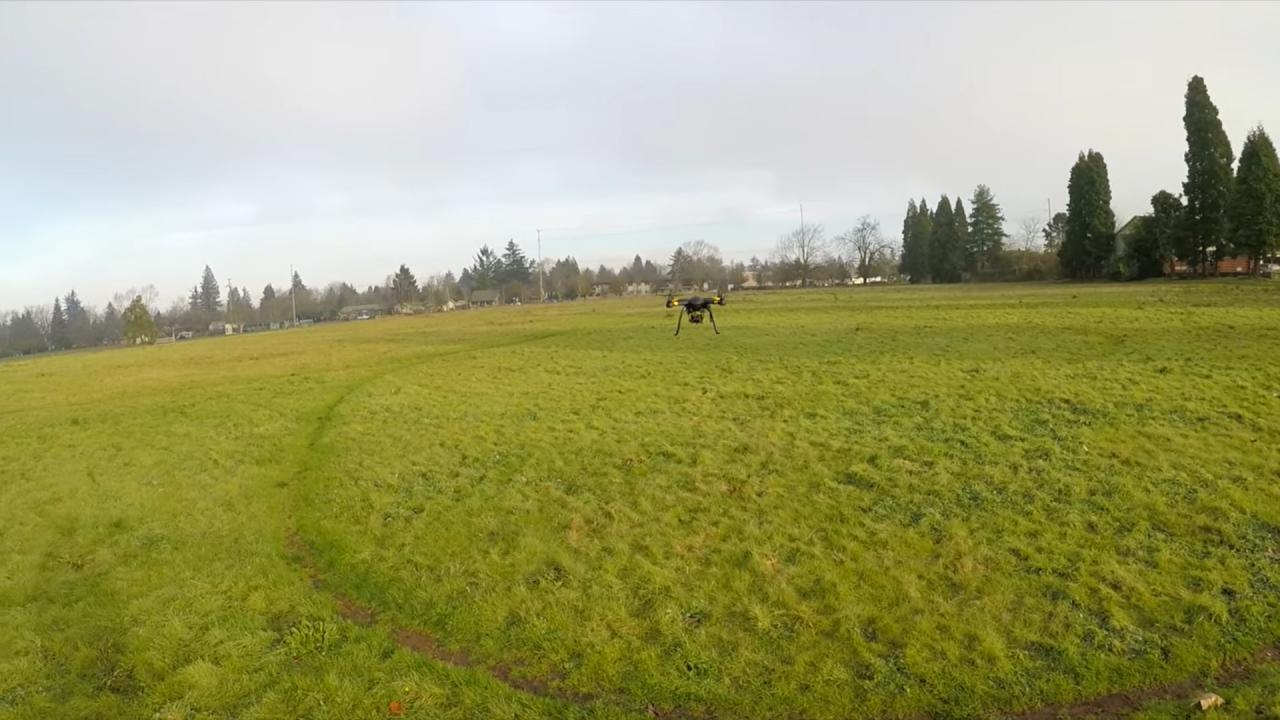Drone: (644, 285, 747, 344)
